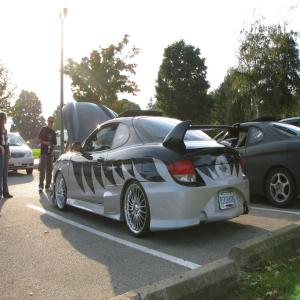Vehicle-registration-plate: (219, 192, 238, 210), (15, 162, 22, 168)
